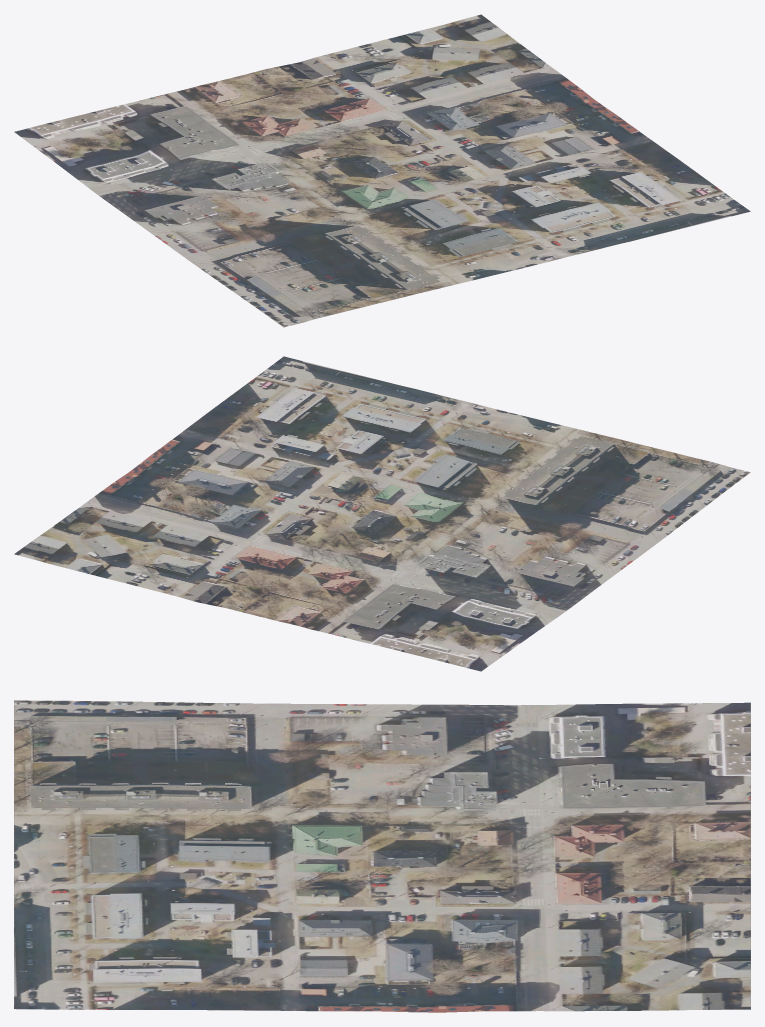
Rendered from CM_Terrain_24488410_6821432.fbx.
3 views of the same model, one above another, from view 1: azimuth 30°, elevation 25°; view 2: azimuth 150°, elevation 25°; view 3: azimuth 270°, elevation 25° (orthographic). The views are drawn at different scales.
Parts seen in each view (by area): view 1: CM_Terrain_24488410_6821432_LOD0; view 2: CM_Terrain_24488410_6821432_LOD0; view 3: CM_Terrain_24488410_6821432_LOD0.
Part boxes in pixels (box(x1,y1,x2,y2)): CM_Terrain_24488410_6821432_LOD0: box(14, 14, 750, 327); CM_Terrain_24488410_6821432_LOD0: box(14, 356, 750, 671); CM_Terrain_24488410_6821432_LOD0: box(14, 700, 750, 1012).
Size of what is drawn, in the model's own units: 205 by 3.24 by 205.
